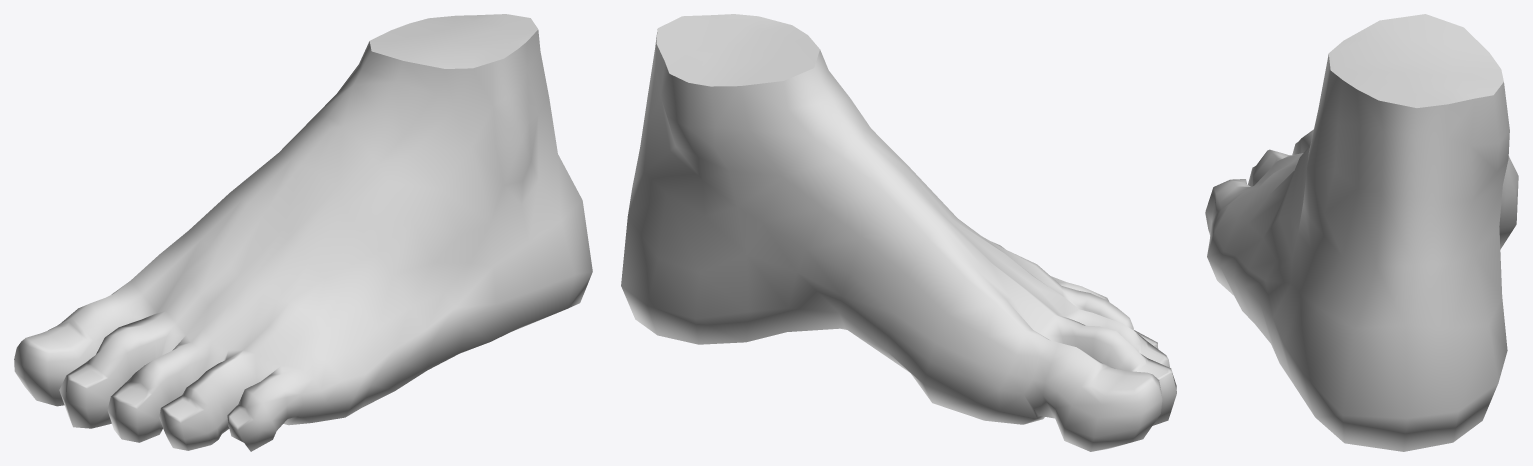
Rendered from leftjyz.dae.
3 renders of one model, left to right at view 1: azimuth 30°, elevation 25°; view 2: azimuth 150°, elevation 25°; view 3: azimuth 270°, elevation 25°, orthographic. The views are drawn at different scales.
Visible parts, largest first — view 1: pPlane5; view 2: pPlane5; view 3: pPlane5.
Part boxes in pixels (x1,y1,x2,y2): pPlane5: (14,14,592,451); pPlane5: (621,14,1176,451); pPlane5: (1205,14,1518,451).
Bounding box in the file's own units: 9.12 × 4.74 × 3.83.
Materials: 1 (1 with a texture image).
